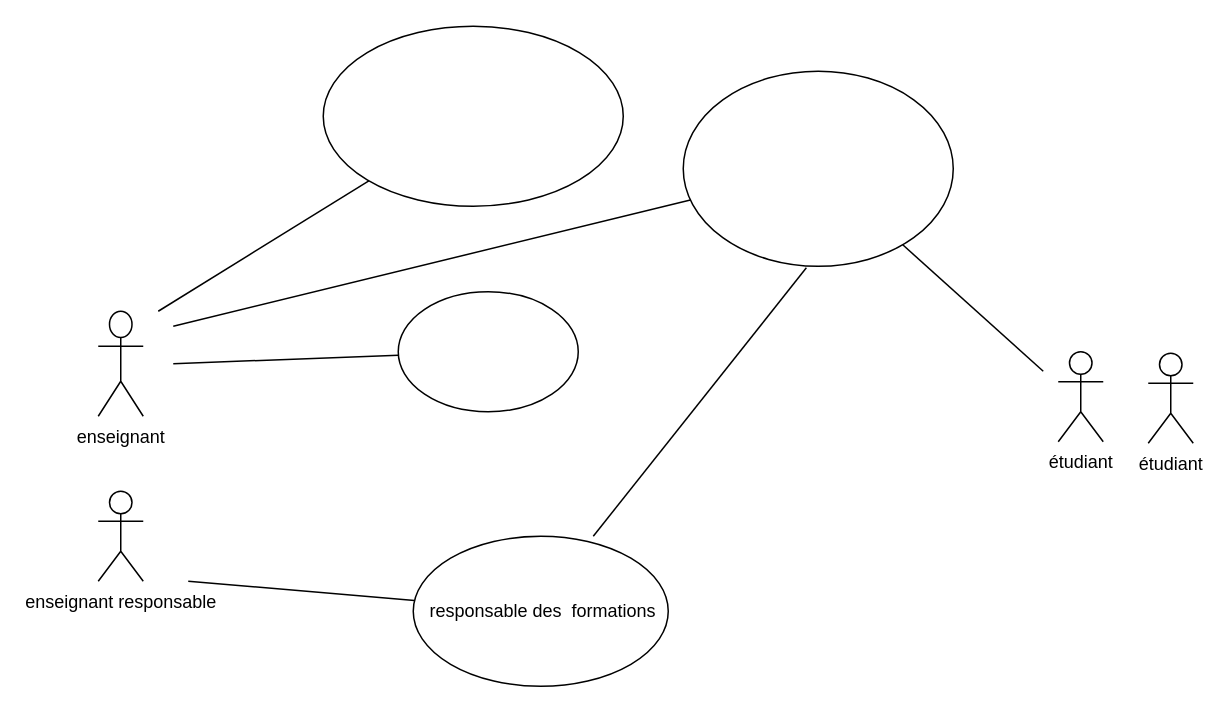
Image size: 1229x713. Some labels were removed from this diagram. Here are the shapes that lost their labels. From the top down, the centre of each, then its label:
At pixel 472 115: "réserver salles de cours".
At pixel 817 168: "le planning".
At pixel 487 351: "reservation materiel pédagogique".
